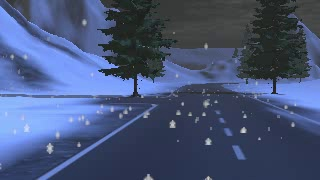Lane: (43, 82, 319, 179)
